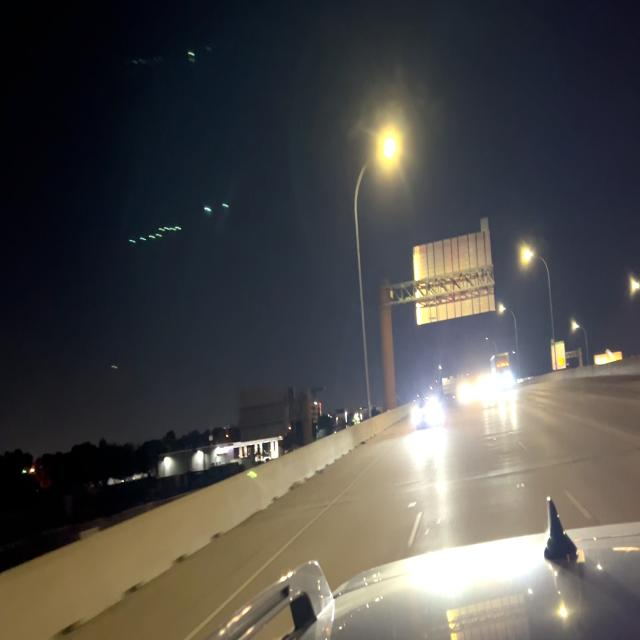back-of-sign: (412, 218, 495, 328)
